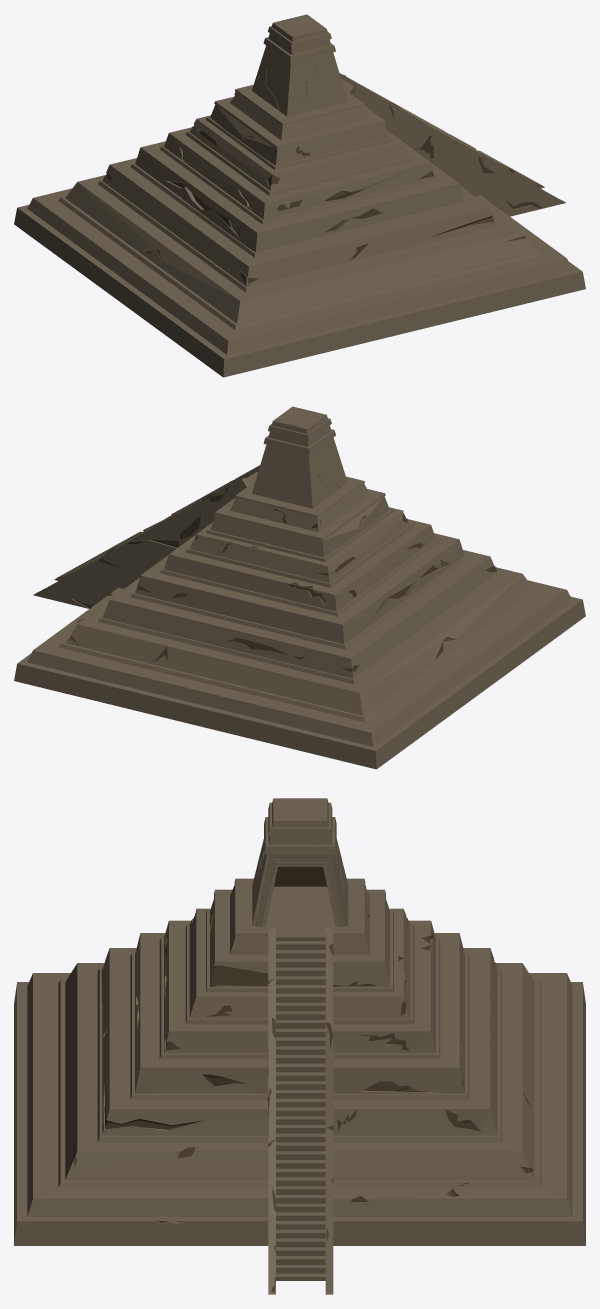
File: Temple01.fbx
3 renders of one model, top to bottom at view 1: azimuth 30°, elevation 25°; view 2: azimuth 150°, elevation 25°; view 3: azimuth 270°, elevation 25°, orthographic. The views are drawn at different scales.
Parts seen in each view (by area): view 1: temple02.001, temple01; view 2: temple02.001, temple01; view 3: temple02.001, temple01.
Part boxes in pixels (left/top/right/bottom): temple02.001: left=14, top=73, right=585, bottom=377; temple01: left=252, top=14, right=347, bottom=116; temple02.001: left=14, top=465, right=585, bottom=769; temple01: left=252, top=406, right=347, bottom=508; temple02.001: left=14, top=878, right=585, bottom=1294; temple01: left=252, top=798, right=348, bottom=927.
Bounding box in the file's own units: 27.3 × 13.8 × 22.69.
